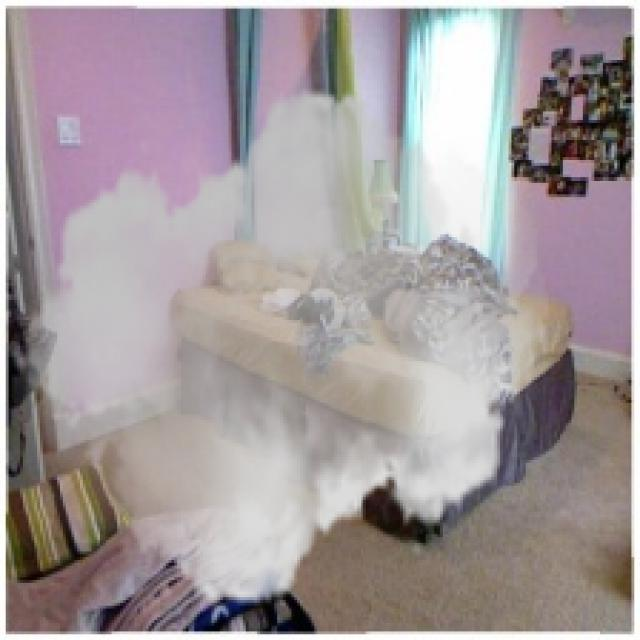smoke: (11, 69, 548, 626)
